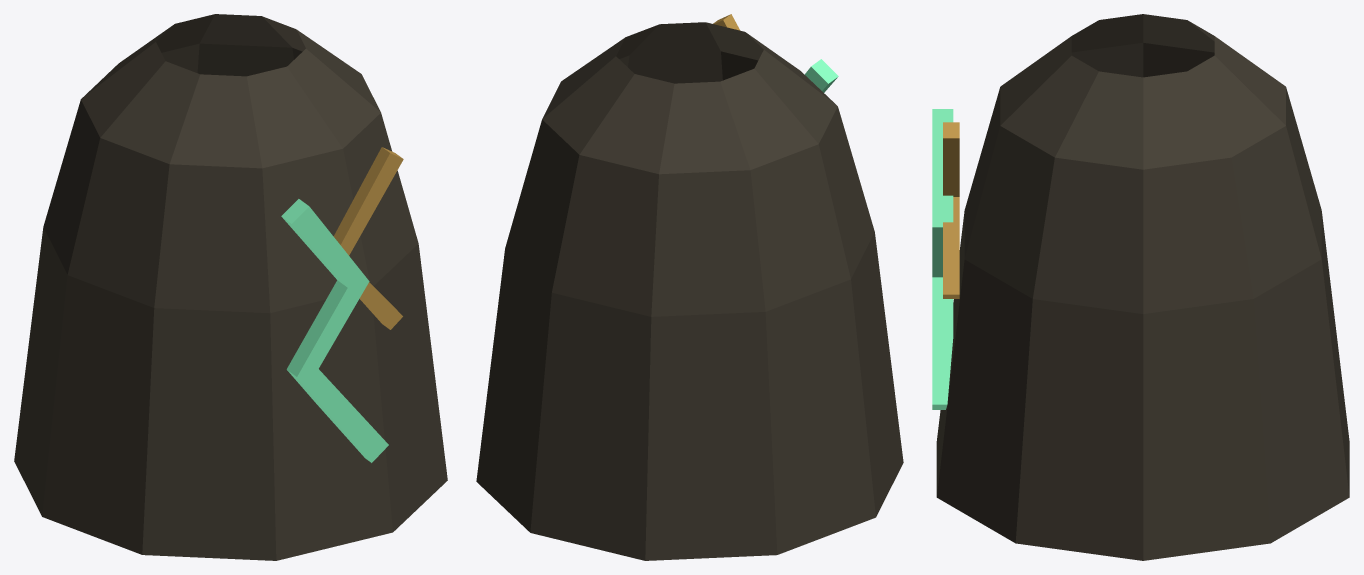
The model's file is thunder_cloud_bell.obj.
3 renders of one model, left to right at view 1: azimuth 30°, elevation 25°; view 2: azimuth 150°, elevation 25°; view 3: azimuth 270°, elevation 25°, orthographic.
Visible parts, largest first — view 1: thunder_bell, thunder_vein_left, thunder_vein_right, thunder_vein_left_edge, thunder_vein_right_edge; view 2: thunder_bell; view 3: thunder_bell, thunder_vein_left_edge, thunder_vein_right_edge.
Part boxes in pixels (x1=…): thunder_bell: x1=14, y1=14, x2=447, y2=560; thunder_vein_left: x1=292, y1=206, x2=388, y2=462; thunder_vein_right: x1=340, y1=153, x2=403, y2=329; thunder_vein_left_edge: x1=281, y1=199, x2=371, y2=462; thunder_vein_right_edge: x1=333, y1=147, x2=402, y2=329; thunder_bell: x1=476, y1=22, x2=903, y2=560; thunder_bell: x1=936, y1=14, x2=1349, y2=560; thunder_vein_left_edge: x1=932, y1=109, x2=953, y2=409; thunder_vein_right_edge: x1=943, y1=122, x2=959, y2=298.
Bounding box in the file's own units: 1.04 × 1.12 × 0.9995.
